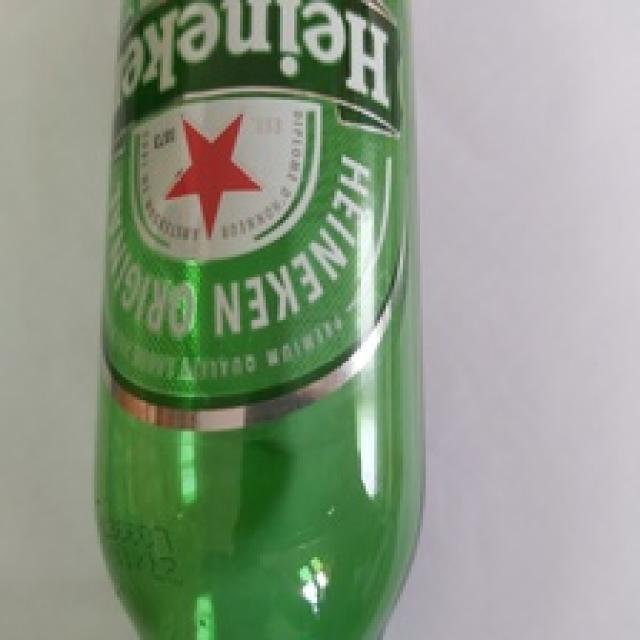garbage: (61, 0, 457, 640)
